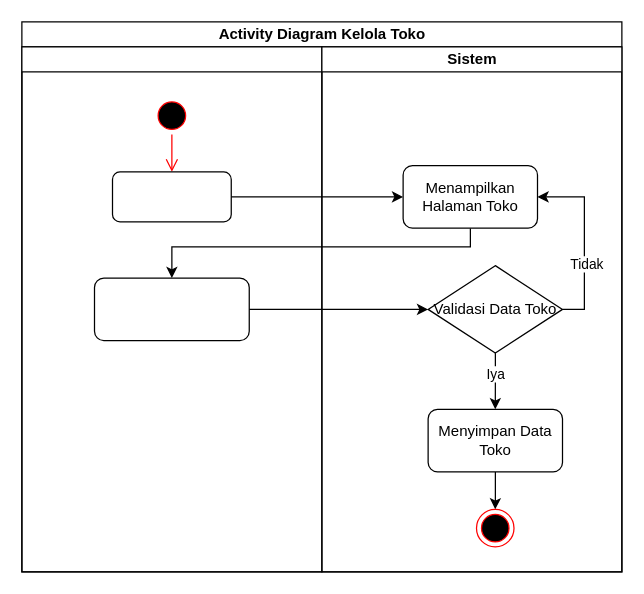
This 644x594 diagram has some shape labels left out. The shapes that lost their labels are listed below. From the top down, each one's box as (x1, y1, x2, y2) in pixels, then its label:
(111, 171, 231, 222): Memilih Menu Kelola Toko
(93, 277, 249, 341): Menambahkan Toko Baru
(21, 46, 322, 572): Admin
